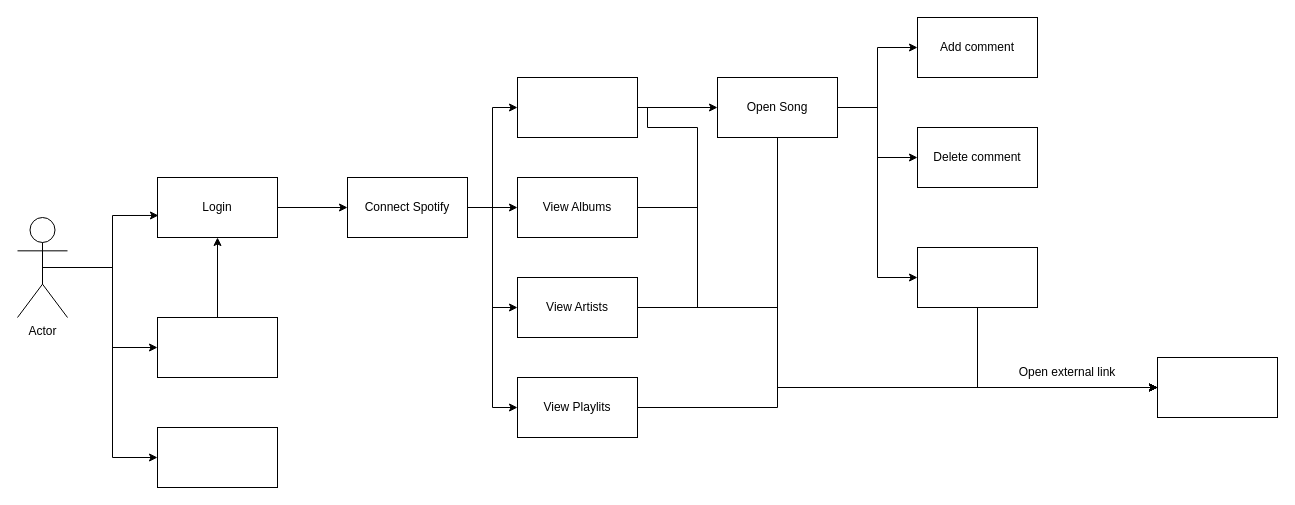
This 1295x505 diagram has some shape labels left out. The shapes that lost their labels are listed below. From the top down, each one's centre as x and y in pixels, then its label:
At pixel 577 107: "View Songs".
At pixel 977 277: "View song".
At pixel 217 347: "Register".
At pixel 1217 387: "Spotify".
At pixel 217 457: "Contact".
